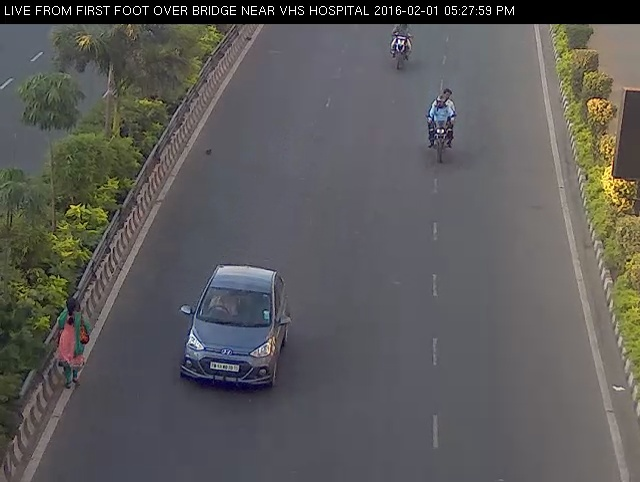Car: (163, 255, 306, 401)
Person: (48, 291, 97, 399), (420, 86, 466, 169), (388, 20, 414, 77)
